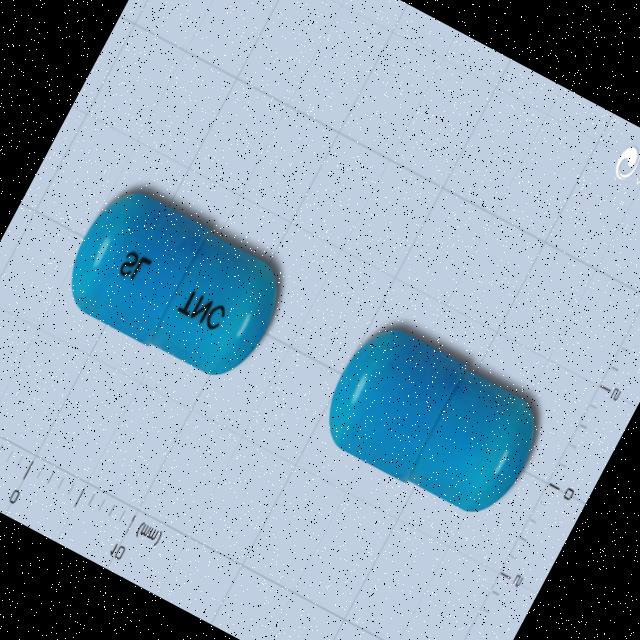Tricyline-N Cap: (51, 176, 298, 395), (309, 316, 553, 532)
